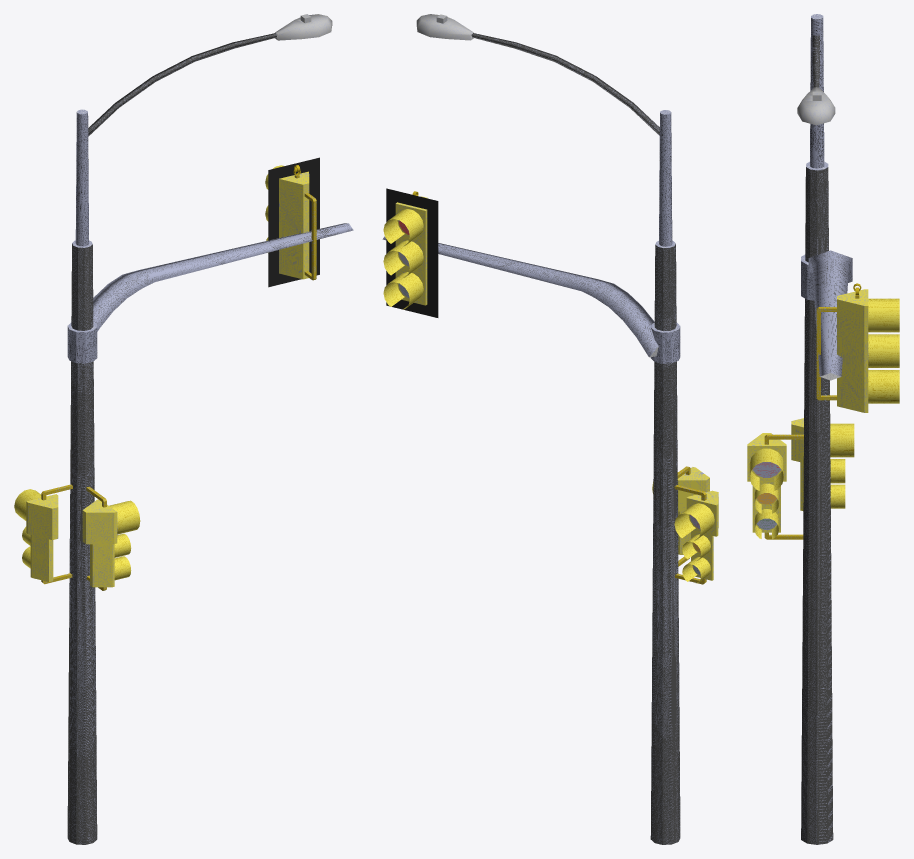
File: Crosslight.fbx
3 renders of one model, left to right at view 1: azimuth 30°, elevation 25°; view 2: azimuth 150°, elevation 25°; view 3: azimuth 270°, elevation 25°, orthographic. The views are drawn at different scales.
Parts seen in each view (by area): view 1: TrafficSignals_Intersection1, Group3, Group1, sun_shield1, light_3_6, light_3_9, light_3_1, Lamp01_1_1, light_3_4, light_3_3, light_3_5, light_3_2 (+1 smaller); view 2: TrafficSignals_Intersection1, Group3, Group1, sun_shield1, light_3_9, light_3_1, light_3_3, light_3_2, Lamp01_1_1, light_3_6, light_3_7, light_3_8; view 3: TrafficSignals_Intersection1, Group3, light_3_1, light_3_3, light_3_2, Group1, light_3_6, light_3_9, Lamp01_1_1, TrafficSignal_Stoplight_1x12in_2x8in1, light_3_4, light_3_5 (+3 smaller).
Part boxes in pixels (bbox=[...]): TrafficSignals_Intersection1: bbox=[67, 240, 97, 844]; Group3: bbox=[93, 223, 353, 331]; Group1: bbox=[75, 33, 277, 246]; sun_shield1: bbox=[268, 157, 319, 287]; light_3_6: bbox=[82, 499, 140, 544]; light_3_9: bbox=[14, 489, 58, 540]; light_3_1: bbox=[265, 165, 309, 216]; Lamp01_1_1: bbox=[275, 14, 332, 40]; light_3_4: bbox=[90, 556, 131, 587]; light_3_3: bbox=[266, 237, 309, 279]; light_3_5: bbox=[90, 533, 131, 564]; light_3_2: bbox=[265, 205, 309, 247]; TrafficSignals_Intersection1: bbox=[650, 240, 680, 844]; Group3: bbox=[382, 236, 658, 357]; Group1: bbox=[471, 33, 672, 246]; sun_shield1: bbox=[386, 188, 438, 317]; light_3_9: bbox=[674, 490, 718, 540]; light_3_1: bbox=[383, 196, 427, 246]; light_3_3: bbox=[383, 268, 427, 309]; light_3_2: bbox=[383, 236, 427, 278]; Lamp01_1_1: bbox=[416, 14, 473, 40]; light_3_6: bbox=[652, 467, 709, 511]; light_3_7: bbox=[682, 554, 713, 583]; light_3_8: bbox=[682, 531, 713, 560]; TrafficSignals_Intersection1: bbox=[801, 161, 833, 844]; Group3: bbox=[808, 250, 852, 380]; light_3_1: bbox=[837, 289, 899, 341]; light_3_3: bbox=[837, 370, 899, 412]; light_3_2: bbox=[837, 334, 899, 377]; Group1: bbox=[810, 14, 824, 168]; light_3_6: bbox=[747, 433, 786, 490]; light_3_9: bbox=[791, 418, 854, 462]; Lamp01_1_1: bbox=[797, 87, 835, 125]; TrafficSignal_Stoplight_1x12in_2x8in1: bbox=[752, 462, 781, 529]; light_3_4: bbox=[752, 507, 780, 538]; light_3_5: bbox=[752, 481, 780, 513].
Bounding box in the file's own units: 3.84 × 8.65 × 1.38.
